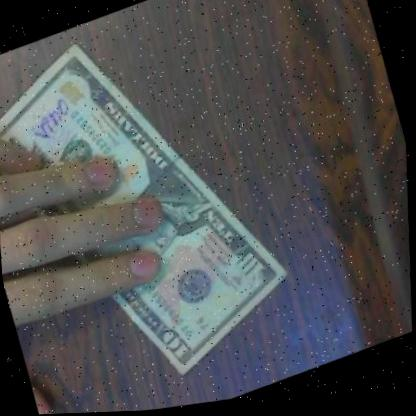dollar_front: (0, 0, 322, 416)
